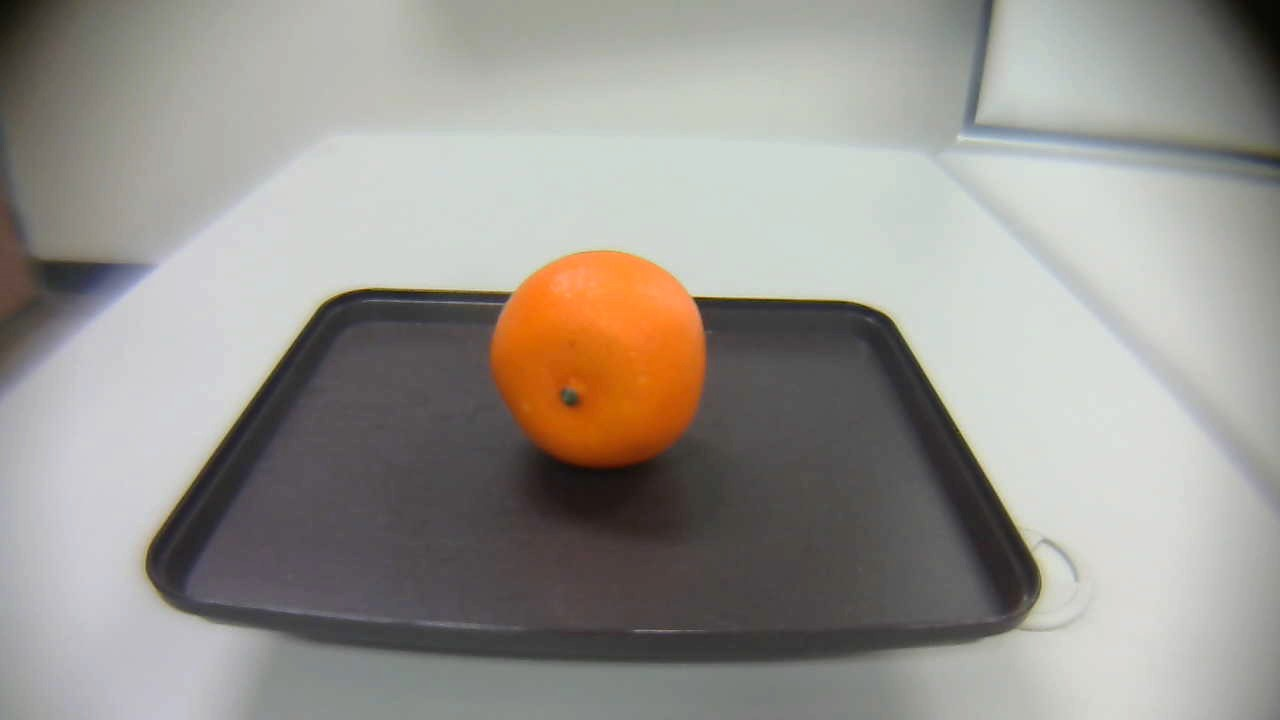orange: (488, 243, 714, 476)
